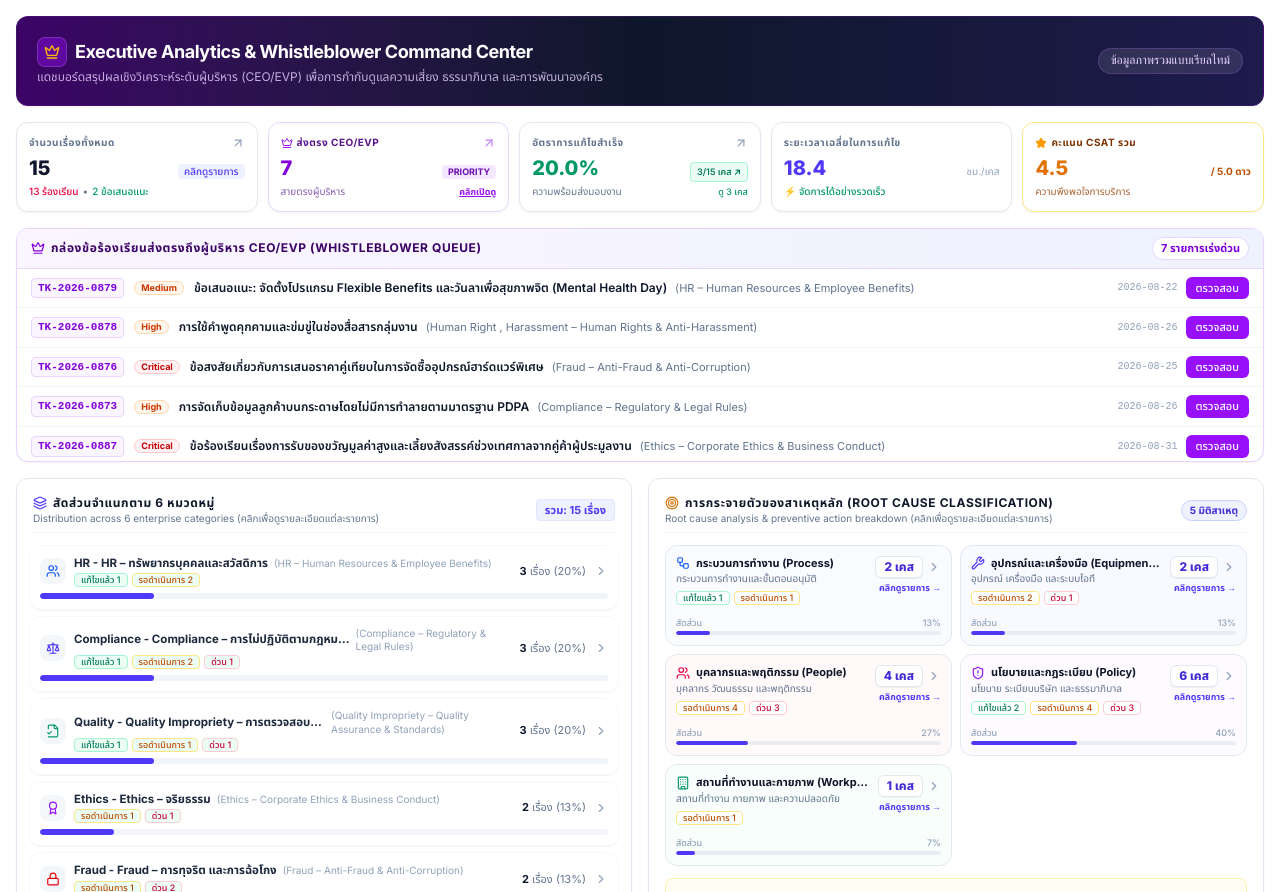
Test case: ExecutiveDashboard › KPI modals › opens a ticket from the modal and closes the modal
Click the button "จำนวนเรื่องทั้งหมด": (137, 167) [16, 122, 258, 212]
(page scrolled)
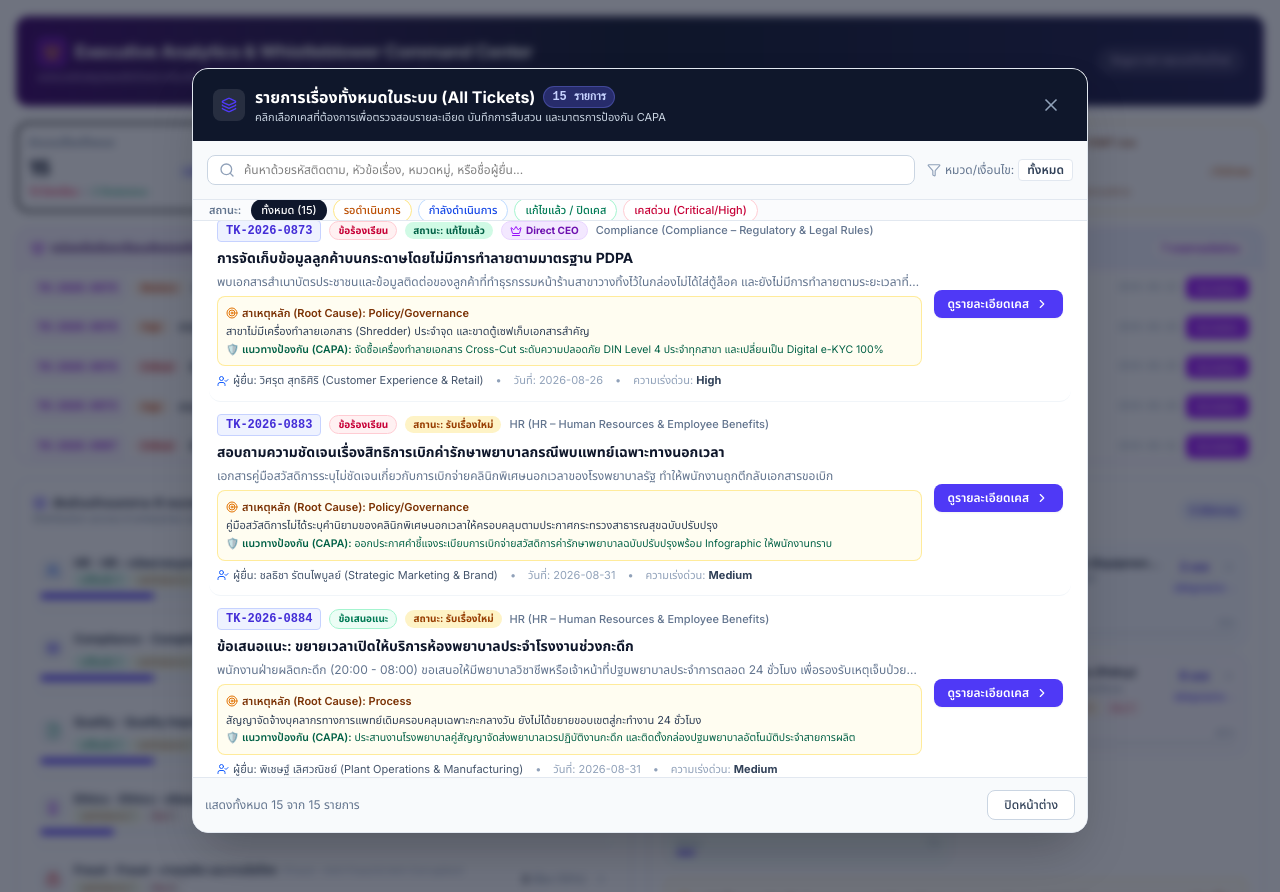
Click the button "TK-2026-0883": (640, 499) [209, 402, 1071, 596]
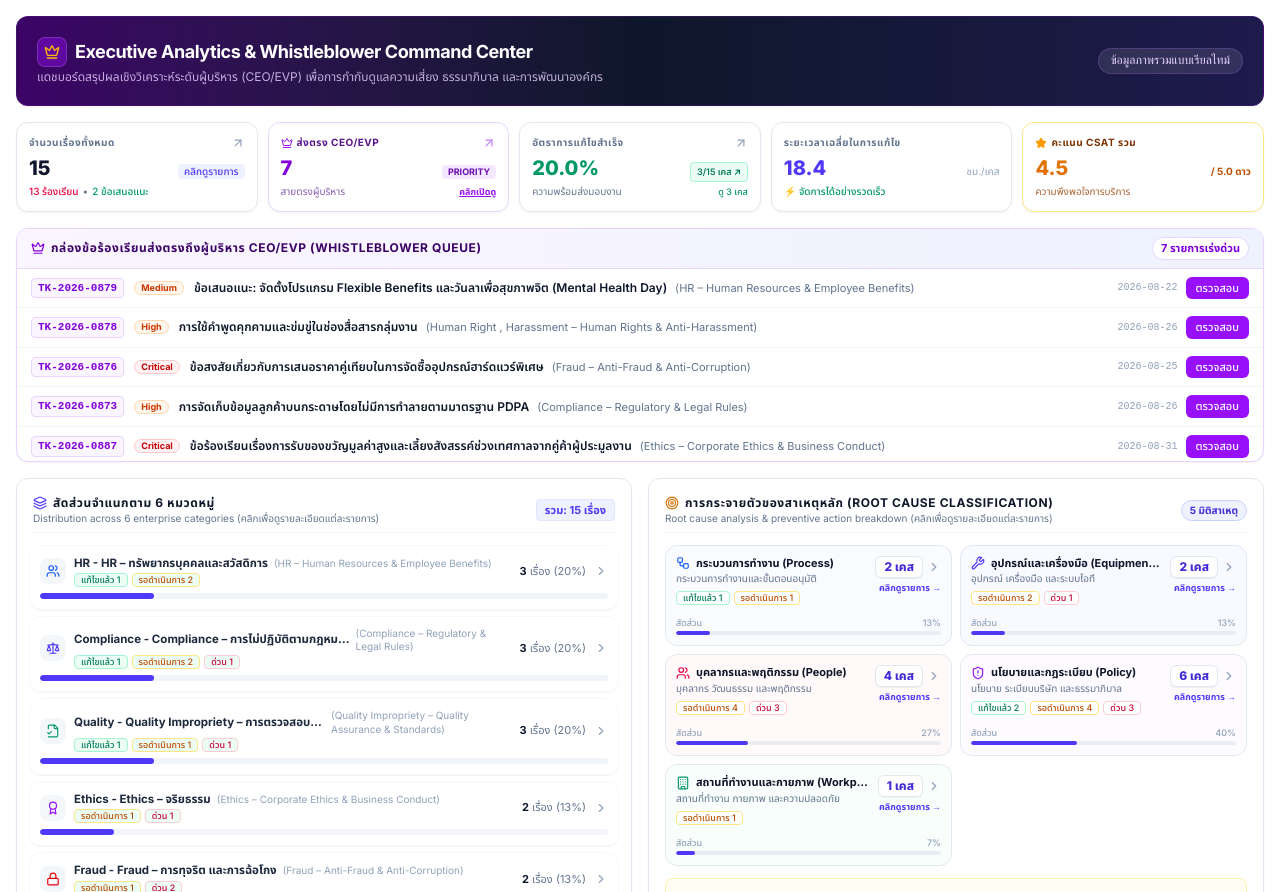
Check: the button "ปิดหน้าต่าง" is gone
